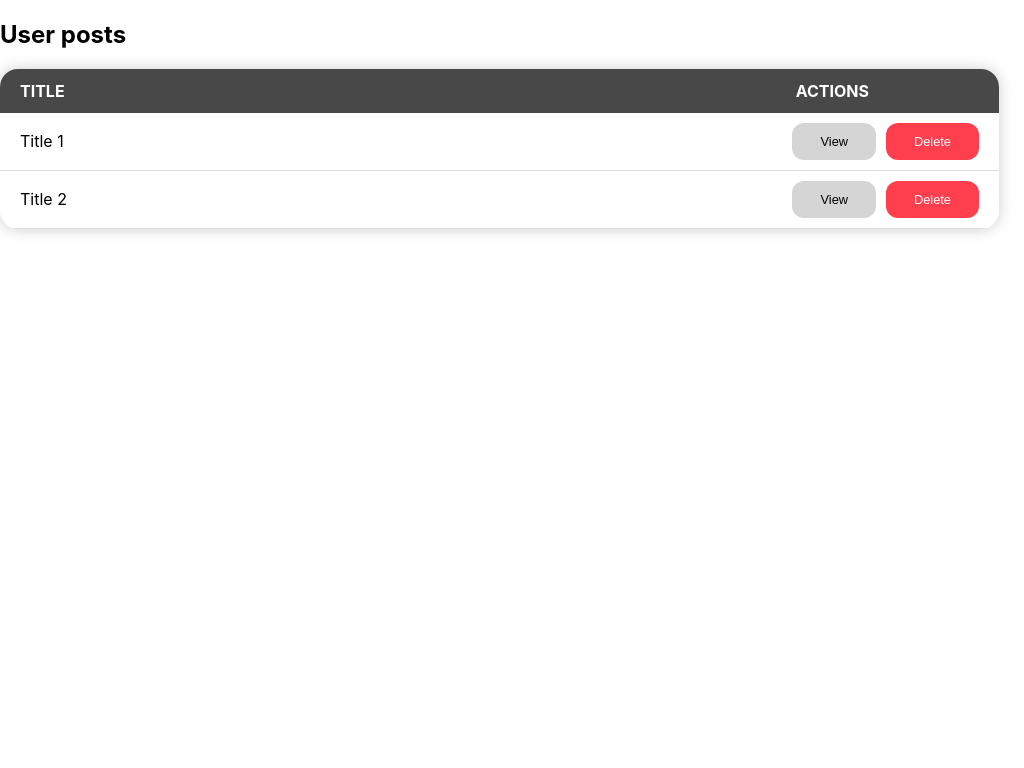
Scenario: Table component › opens delete modal when delete button is clicked
The width and height of the screenshot is (1024, 768).
Click the button with test id "deleteButton" in the row of "Title 1". click: (932, 141)
box: [886,123,979,160]
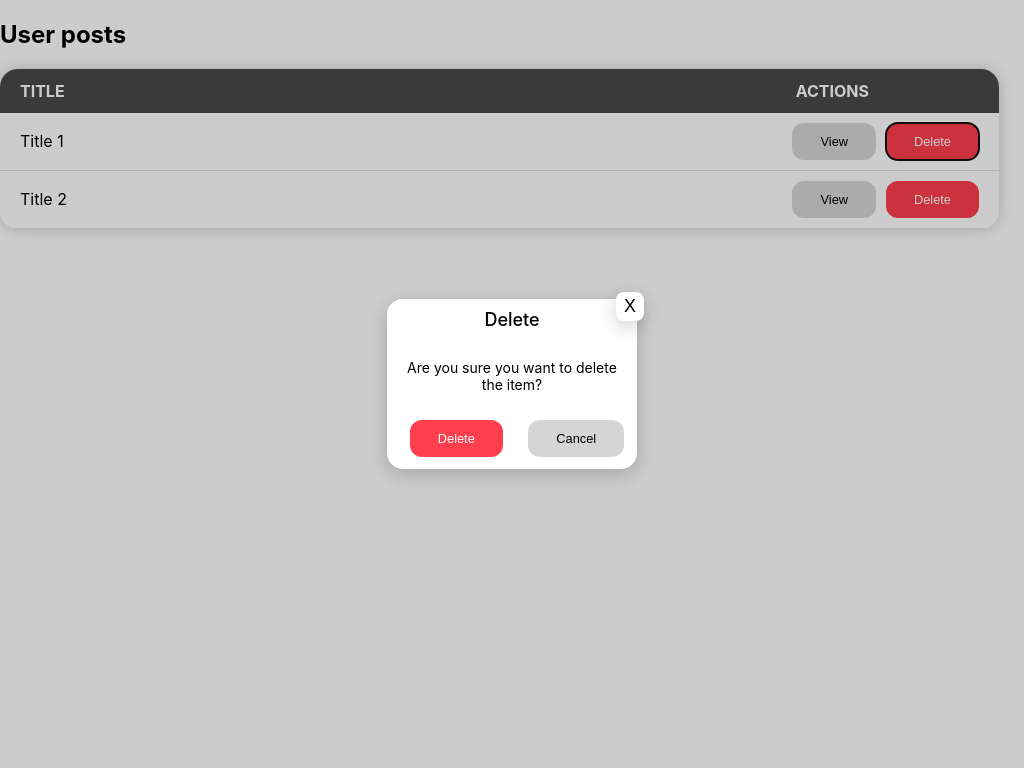
Expected: the heading with test id "modalTitle" reads "Delete", [484,309,540,330]
Expected: the text with test id "modalContent" reads "Are you sure you want to delete the item?", [407,359,617,393]
